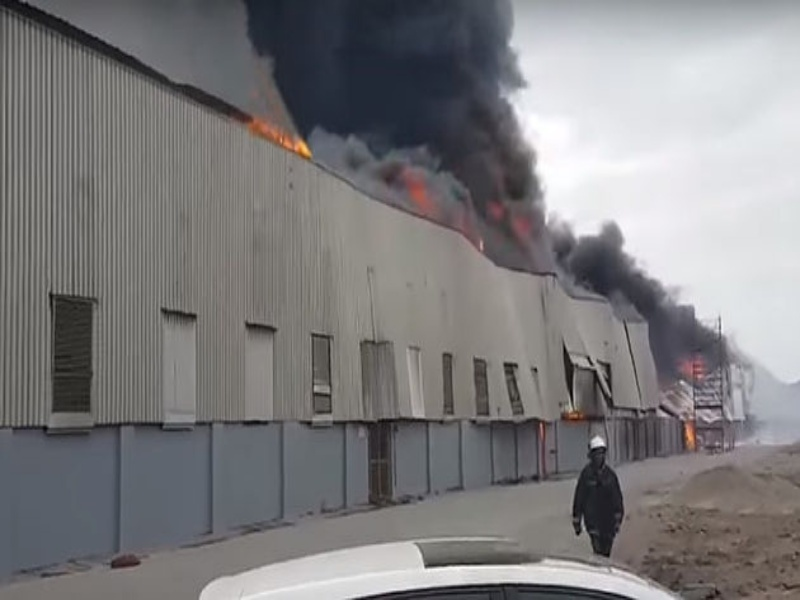smoke: (248, 1, 543, 211)
